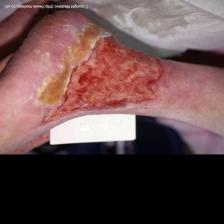Wound: (39, 21, 166, 126)
